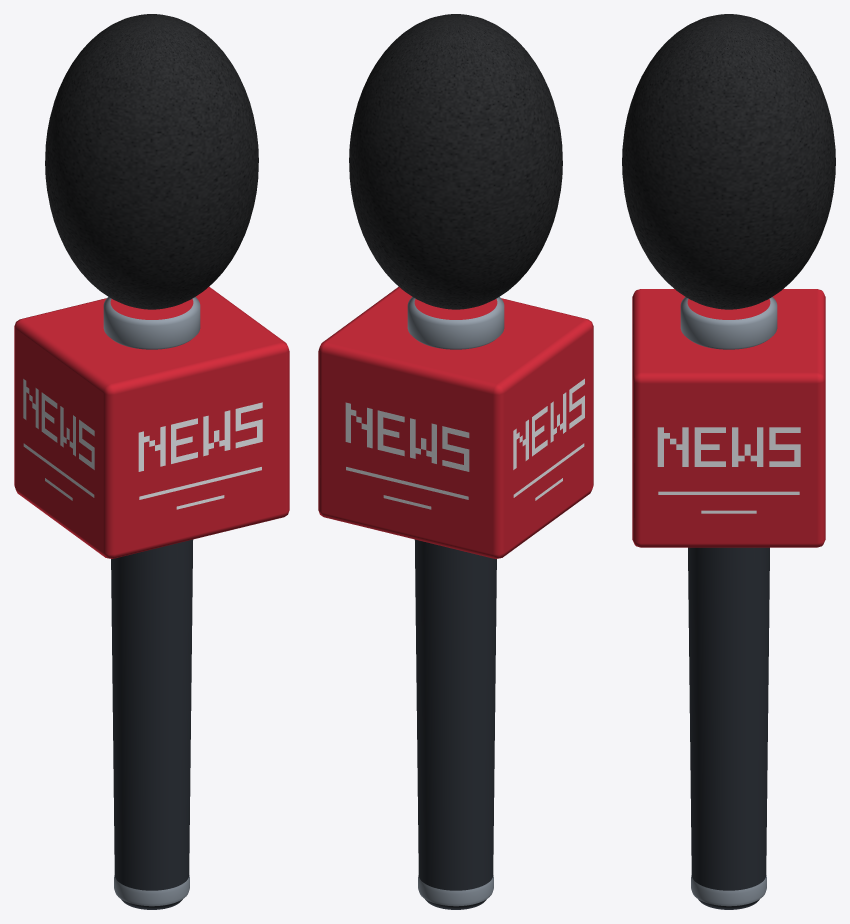
File: news-microphone.glb
3 renders of one model, left to right at view 1: azimuth 30°, elevation 25°; view 2: azimuth 150°, elevation 25°; view 3: azimuth 270°, elevation 25°, orthographic.
Visible parts, largest first — view 1: NEWS_MicFlag, NEWS_FoamWindscreen, NEWS_GripHandle, NEWS_Lettering_1, NEWS_FlagUpperCollar, NEWS_Lettering_4, NEWS_BaseTrim; view 2: NEWS_MicFlag, NEWS_FoamWindscreen, NEWS_GripHandle, NEWS_Lettering_3, NEWS_FlagUpperCollar, NEWS_Lettering_4, NEWS_BaseTrim; view 3: NEWS_FoamWindscreen, NEWS_MicFlag, NEWS_GripHandle, NEWS_Lettering_2, NEWS_FlagUpperCollar, NEWS_BaseTrim.
Part boxes in pixels (x1,y1,x2,y2): NEWS_MicFlag: (14, 286, 289, 558); NEWS_FoamWindscreen: (45, 14, 258, 309); NEWS_GripHandle: (111, 539, 193, 909); NEWS_Lettering_1: (138, 402, 262, 509); NEWS_FlagUpperCollar: (103, 297, 200, 349); NEWS_Lettering_4: (23, 379, 94, 500); NEWS_BaseTrim: (114, 875, 189, 906); NEWS_MicFlag: (318, 286, 593, 558); NEWS_FoamWindscreen: (349, 14, 562, 309); NEWS_GripHandle: (414, 539, 496, 909); NEWS_Lettering_3: (345, 402, 469, 509); NEWS_FlagUpperCollar: (407, 297, 504, 349); NEWS_Lettering_4: (513, 378, 584, 500); NEWS_BaseTrim: (418, 875, 493, 906); NEWS_FoamWindscreen: (622, 14, 835, 309); NEWS_MicFlag: (632, 289, 825, 547); NEWS_GripHandle: (688, 547, 769, 909); NEWS_Lettering_2: (657, 427, 800, 513); NEWS_FlagUpperCollar: (680, 297, 777, 349); NEWS_BaseTrim: (691, 875, 766, 906).
Bounding box in the file's own units: 0.0623 × 0.28 × 0.062.
5 materials, 1 textured.
